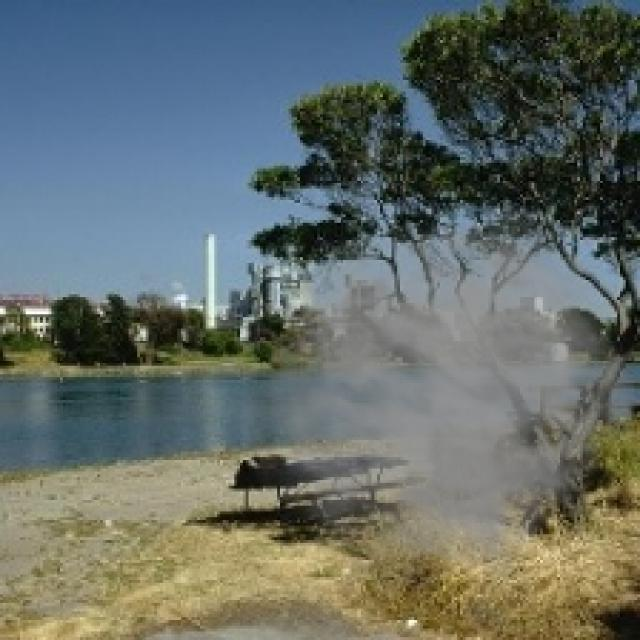Smoke: (232, 206, 637, 603)
